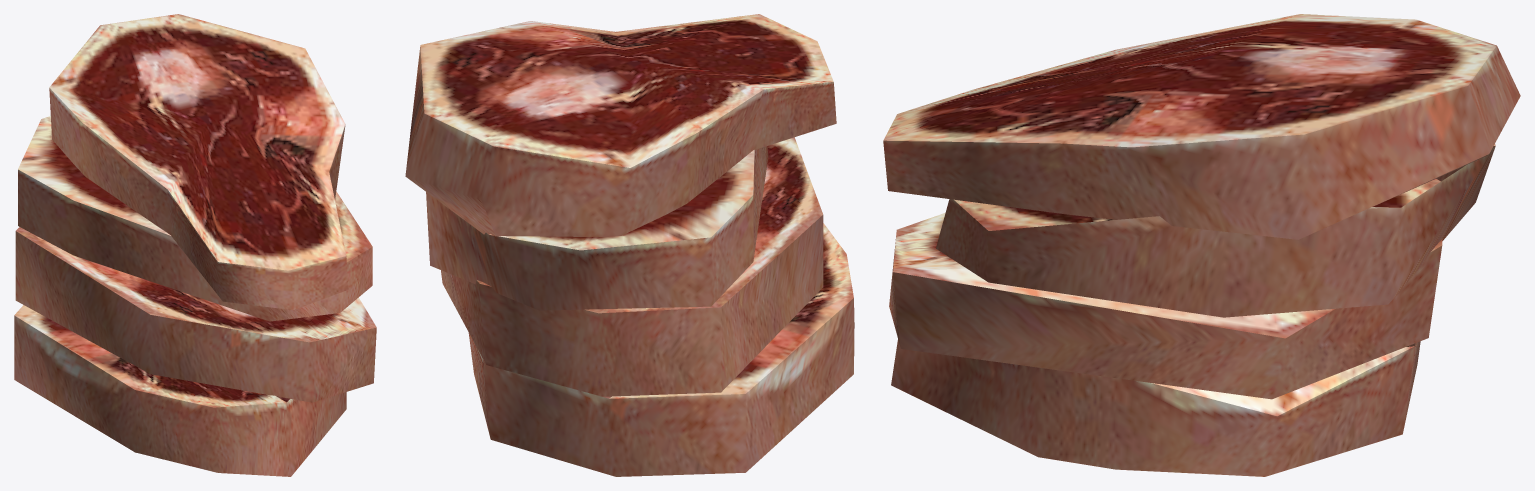
Rendered from edb_food_meat_sliced_l1.fbx.
3 views of the same model, side by side, from view 1: azimuth 30°, elevation 25°; view 2: azimuth 150°, elevation 25°; view 3: azimuth 270°, elevation 25° (orthographic). The views are drawn at different scales.
Parts seen in each view (by area): view 1: mesh_node; view 2: mesh_node; view 3: mesh_node.
Part boxes in pixels (x1,y1,x2,y2): mesh_node: [14, 14, 376, 476]; mesh_node: [405, 14, 854, 476]; mesh_node: [883, 14, 1520, 476].
Size of the model in its own units: 0.2664 by 0.2512 by 0.3946.
